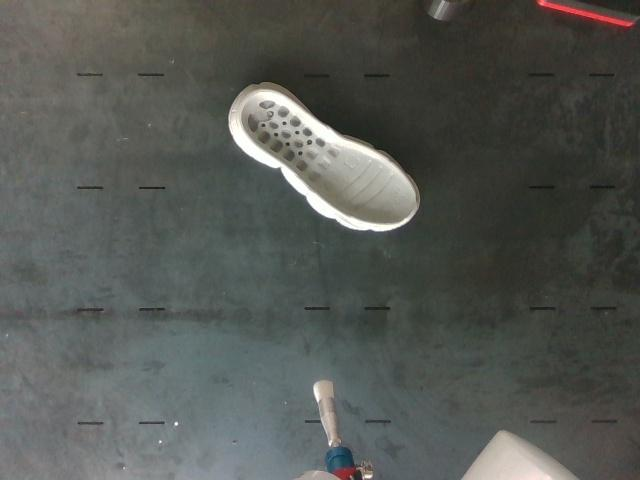shoes: (239, 91, 419, 226)
